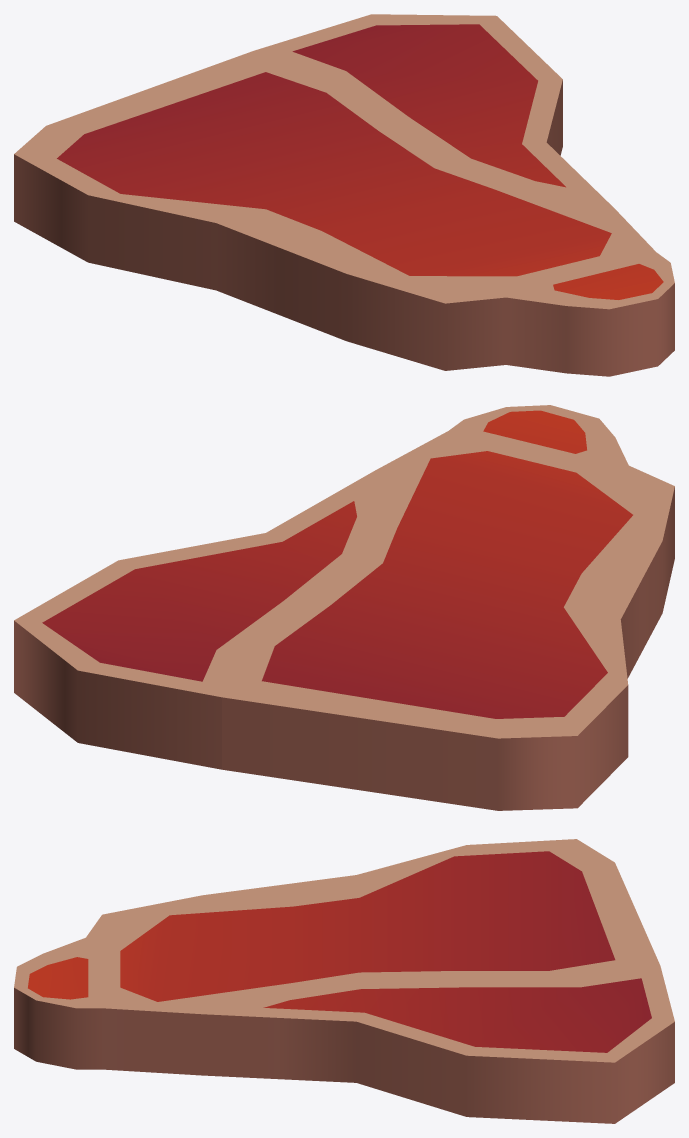
The model's file is consumables-meatsdairy-steak_v1.glb.
The picture shows the model from 3 angles, top to bottom: view 1: azimuth 30°, elevation 25°; view 2: azimuth 150°, elevation 25°; view 3: azimuth 270°, elevation 25°; orthographic projection. The views are drawn at different scales.
Visible parts, largest first — view 1: Steak.001; view 2: Steak.001; view 3: Steak.001.
Part boxes in pixels (x1,y1,x2,y2): Steak.001: [14, 14, 674, 376]; Steak.001: [14, 405, 674, 810]; Steak.001: [14, 839, 674, 1123].
Size of the model in its own units: 0.134 by 0.0171 by 0.1673.
